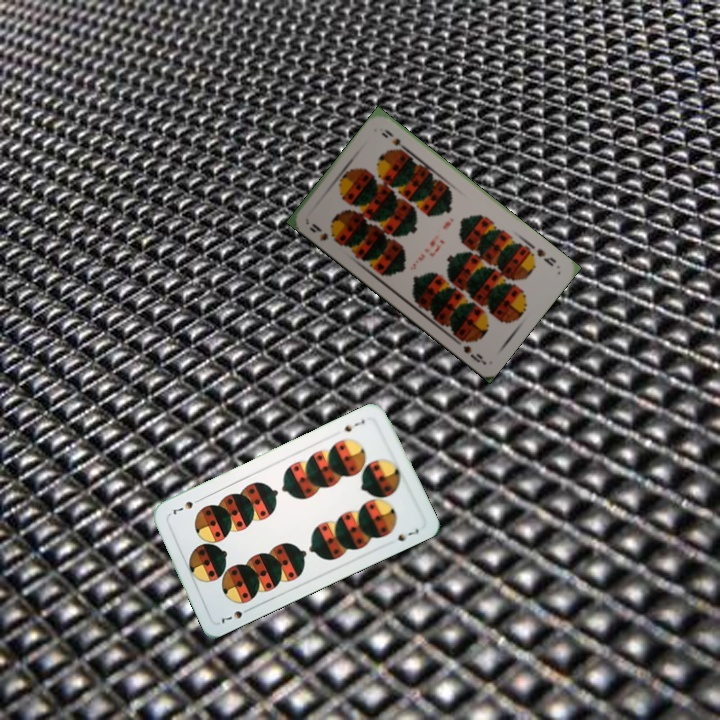S7: (217, 603, 254, 626), (340, 415, 367, 435)
S9: (305, 219, 340, 245), (533, 245, 559, 269)
